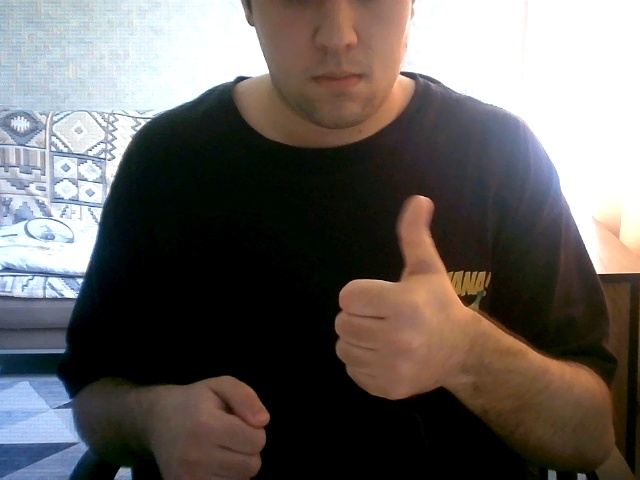good: (331, 194, 484, 411)
